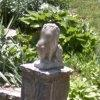Statue: (21, 14, 67, 74)
